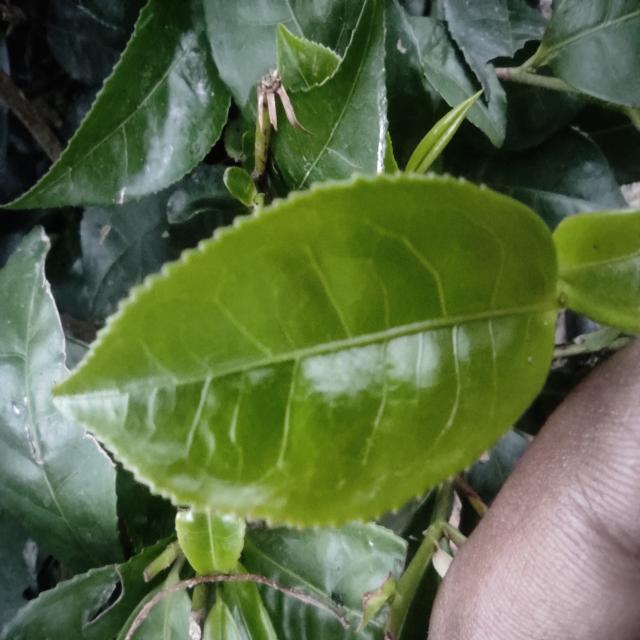Category C 4-7 days: (26, 138, 572, 546)
